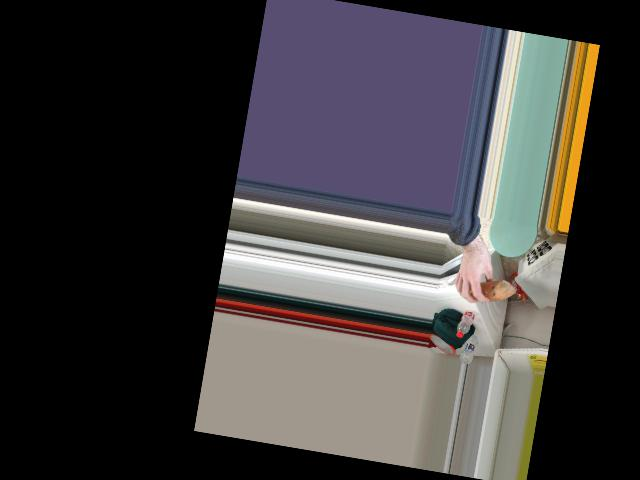sweet_potato: (464, 275, 515, 304)
